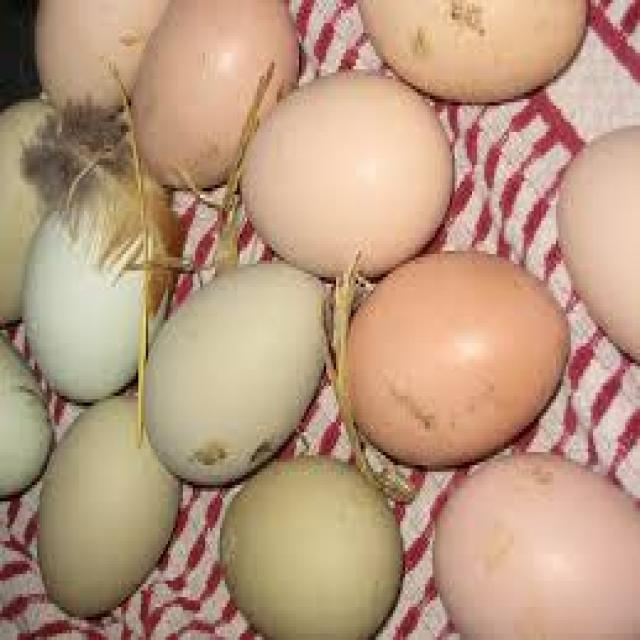Brown Egg: (331, 235, 576, 469), (227, 77, 469, 277), (405, 445, 640, 640), (142, 0, 297, 204), (559, 119, 640, 375)
